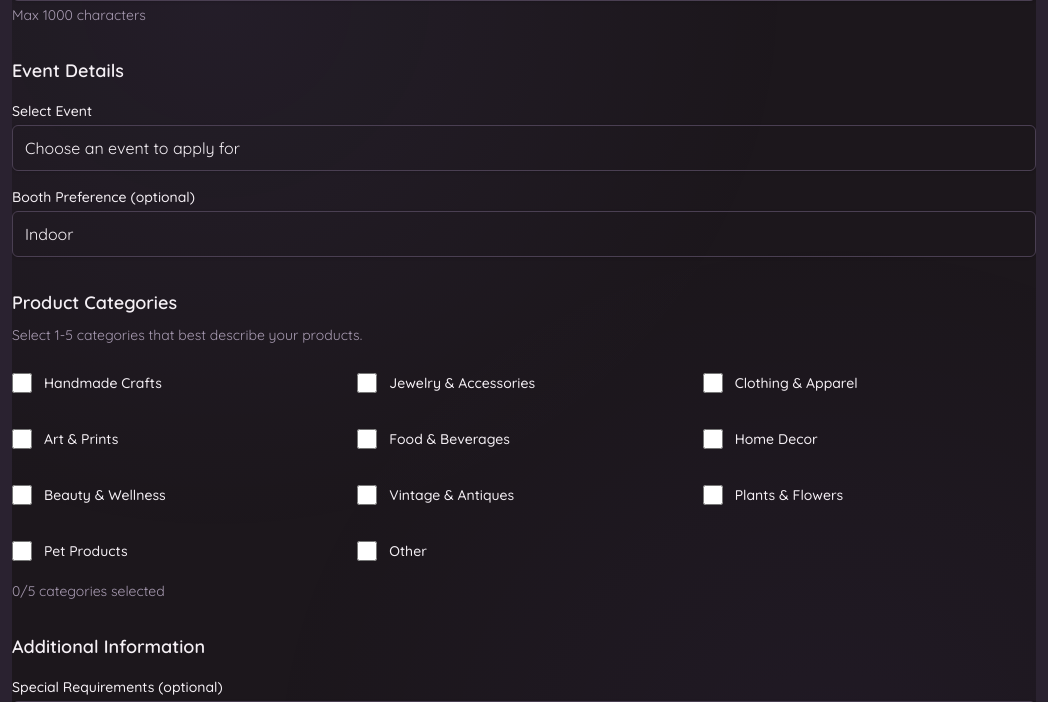
Test case: VendorApplicationForm › Product Categories › disables additional categories when 5 are selected
(page scrolled)
Select 5 categories
Click the checkbox labelled "Handmade Crafts". click: (22, 383)
box: 12,373 -> 32,393
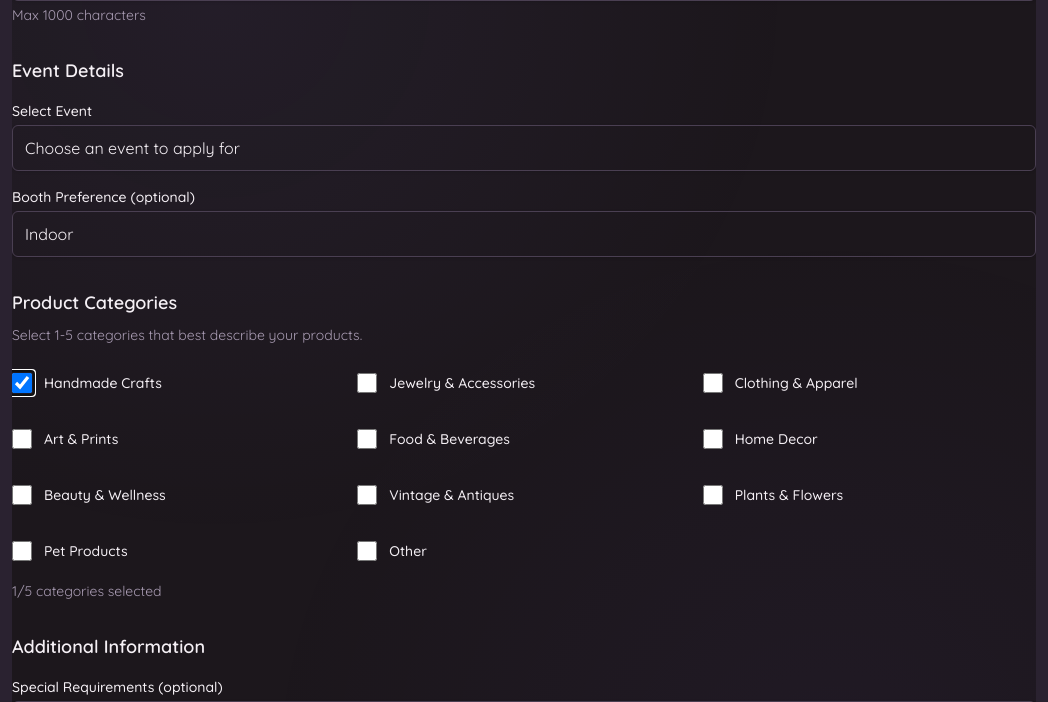
Click the checkbox labelled "Jewelry & Accessories". click: (367, 383)
box: 357,373 -> 377,393
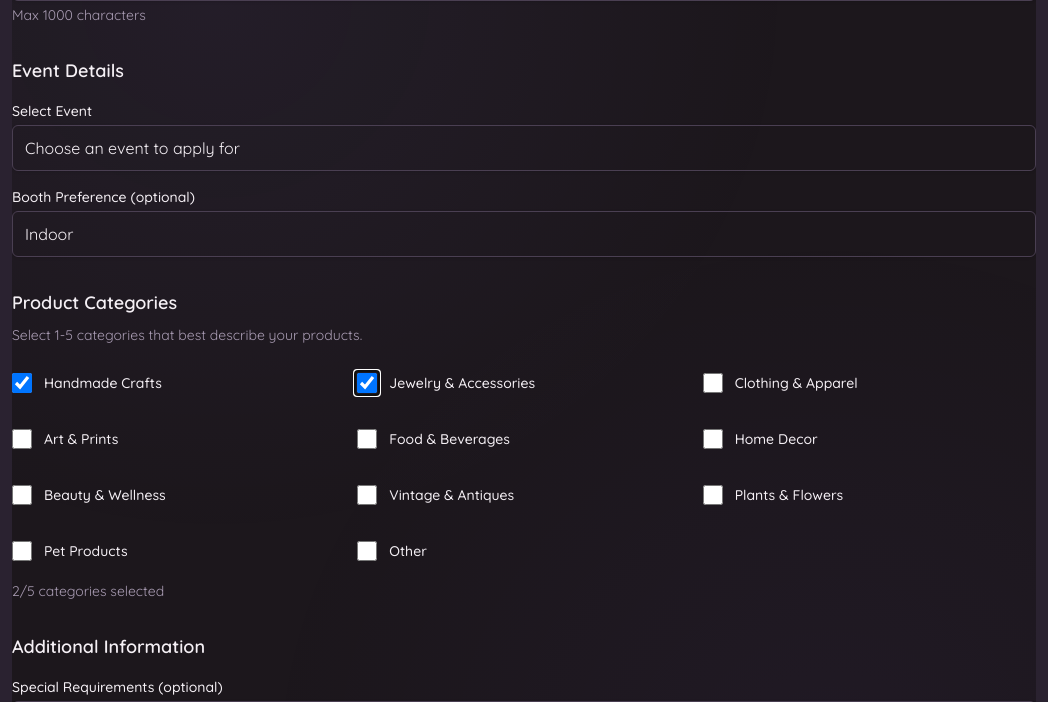
Click the checkbox labelled "Clothing & Apparel". click: (713, 383)
box: 703,373 -> 723,393
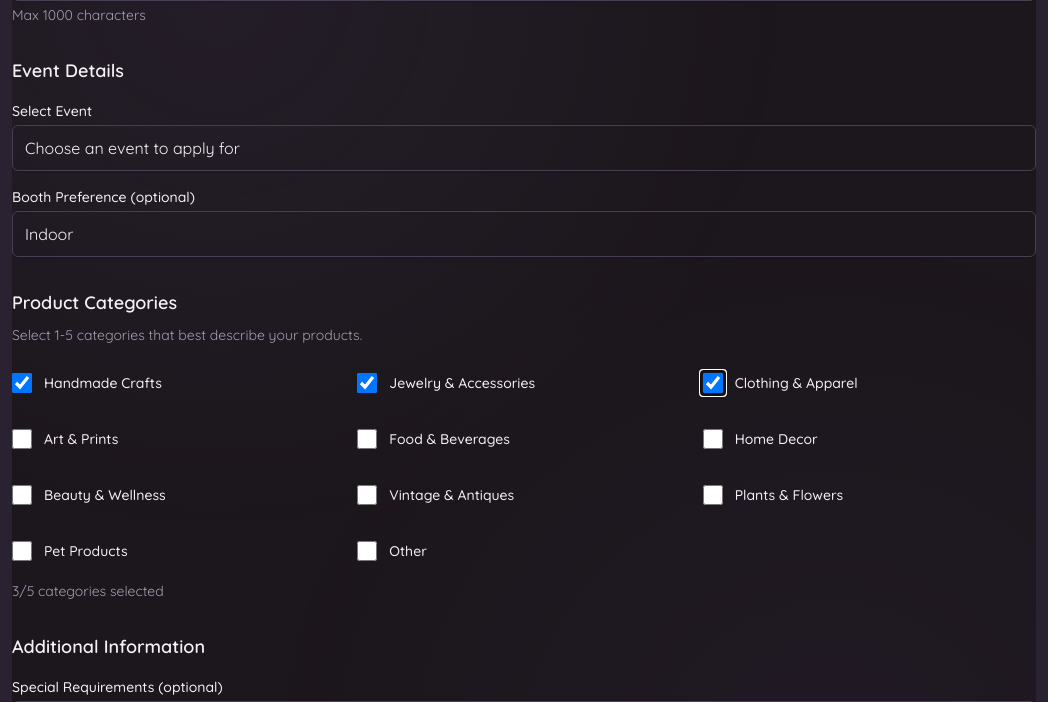
Click the checkbox labelled "Art & Prints". click: (22, 439)
box: 12,429 -> 32,449
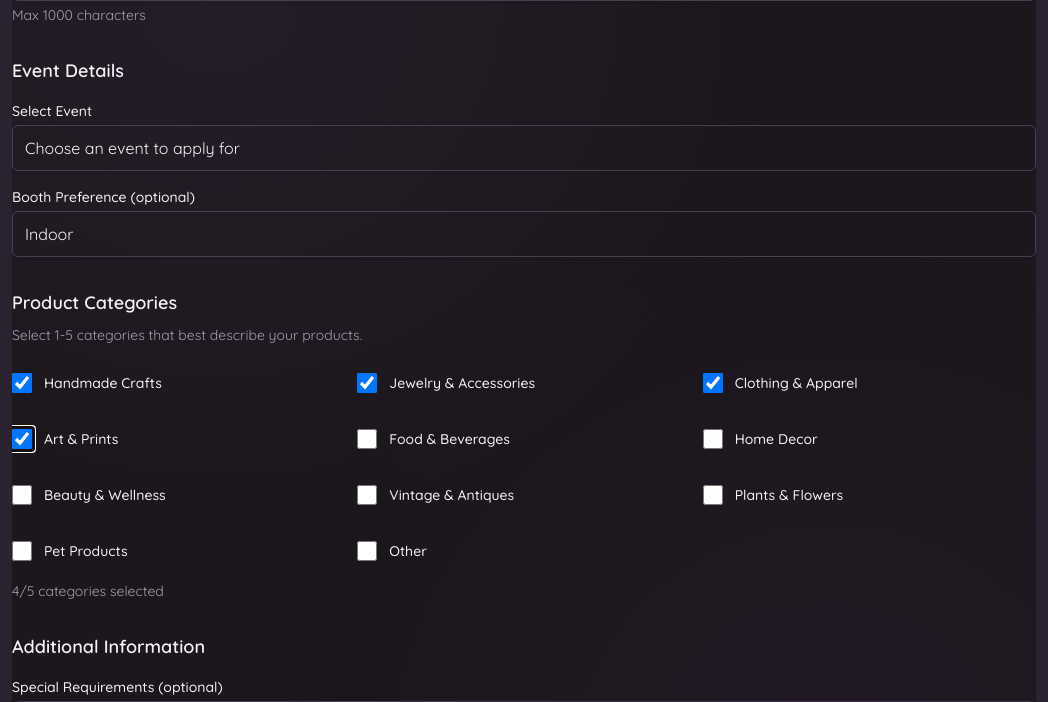
Click the checkbox labelled "Food & Beverages". click: (367, 439)
box: 357,429 -> 377,449
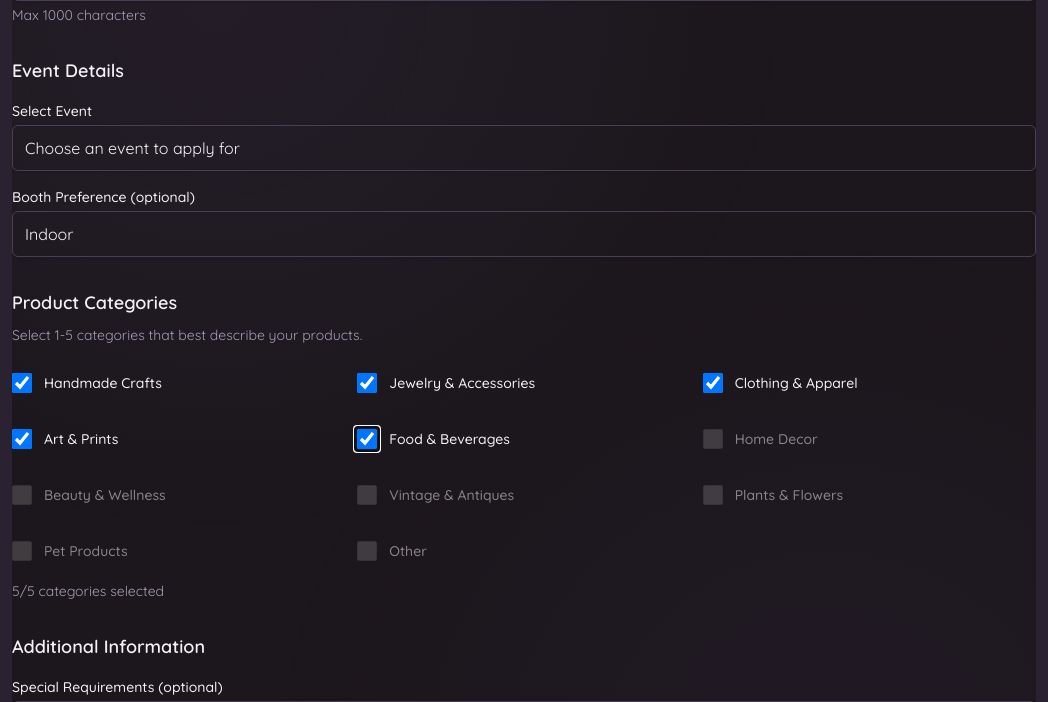
Result: the text "5/5 categories selected" is shown at 12,582 -> 164,600
Result: the checkbox labelled "Other" is disabled at 357,541 -> 377,561
